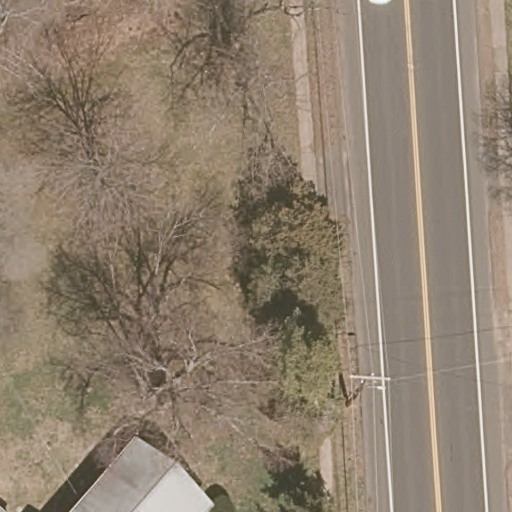DT: (349, 372, 391, 395)
